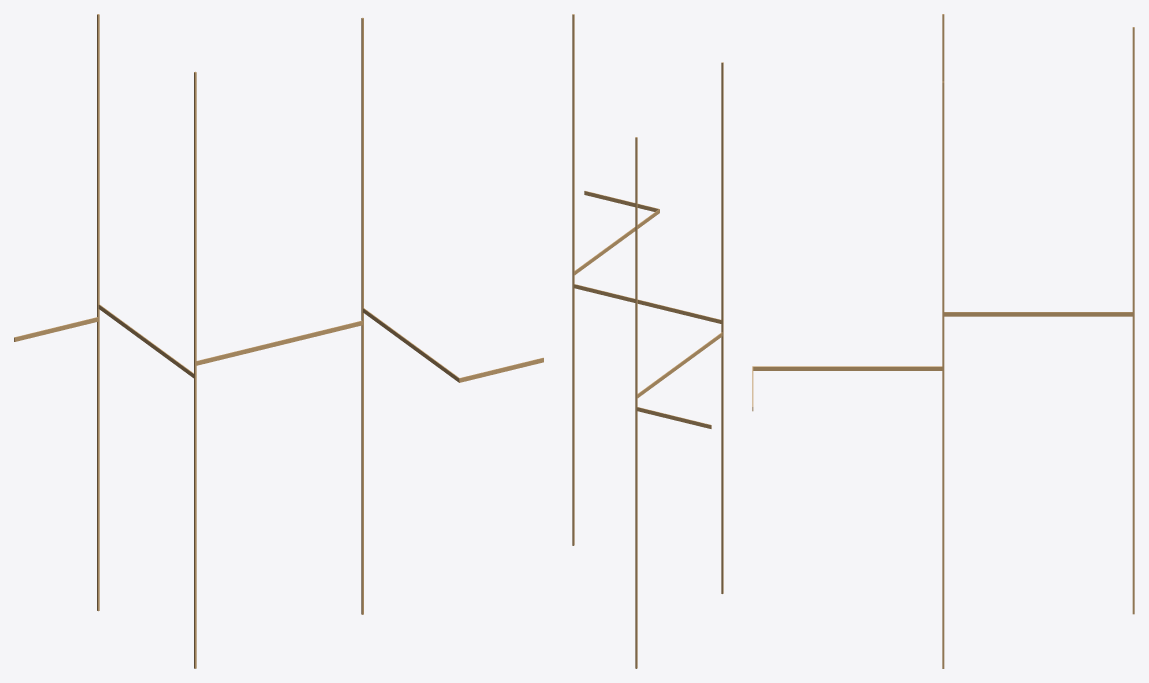
File: board.glb
3 renders of one model, left to right at view 1: azimuth 30°, elevation 25°; view 2: azimuth 150°, elevation 25°; view 3: azimuth 270°, elevation 25°, orthographic. The views are drawn at different scales.
Parts seen in each view (by area): view 1: Unified_Net_1_Island_5, Unified_Net_1_Island_8, Unified_Net_1_Island_15, Unified_Net_1_Island_14, Unified_Net_1_Island_10, Unified_Net_1_Island_12, Unified_Net_1_Island_6, Unified_Net_1_Island_9; view 2: Unified_Net_1_Island_8, Unified_Net_1_Island_10, Unified_Net_1_Island_14, Unified_Net_1_Island_5, Unified_Net_1_Island_9, Unified_Net_1_Island_6, Unified_Net_1_Island_12, Unified_Net_1_Island_15, Unified_Net_1_Island_13, Unified_Net_1_Island_11; view 3: Unified_Net_1_Island_5, Unified_Net_1_Island_13, Unified_Net_1_Island_14, Unified_Net_1_Island_10, Unified_Net_1_Island_6, Unified_Net_1_Island_9.
Part boxes in pixels (x1,y1,x2,y2): Unified_Net_1_Island_5: (363,308,543,382); Unified_Net_1_Island_8: (194,362,196,668); Unified_Net_1_Island_15: (196,320,362,365); Unified_Net_1_Island_14: (361,17,363,325); Unified_Net_1_Island_10: (97,14,99,321); Unified_Net_1_Island_12: (194,71,196,378); Unified_Net_1_Island_6: (97,306,99,611); Unified_Net_1_Island_9: (361,310,363,614); Unified_Net_1_Island_8: (721,320,723,593); Unified_Net_1_Island_10: (635,137,637,411); Unified_Net_1_Island_14: (572,14,574,287); Unified_Net_1_Island_5: (574,191,659,274); Unified_Net_1_Island_9: (572,276,574,545); Unified_Net_1_Island_6: (635,396,637,668); Unified_Net_1_Island_12: (721,62,723,320); Unified_Net_1_Island_15: (574,284,721,323); Unified_Net_1_Island_13: (637,332,722,397); Unified_Net_1_Island_11: (637,407,711,428); Unified_Net_1_Island_5: (752,366,942,411); Unified_Net_1_Island_13: (944,312,1132,316); Unified_Net_1_Island_14: (942,81,944,384); Unified_Net_1_Island_10: (1132,27,1134,329); Unified_Net_1_Island_6: (1132,312,1134,614); Unified_Net_1_Island_9: (942,384,944,668).
Size of the model in its own units: 4.01e-05 by 7.1e-05 by 4.02e-05.
